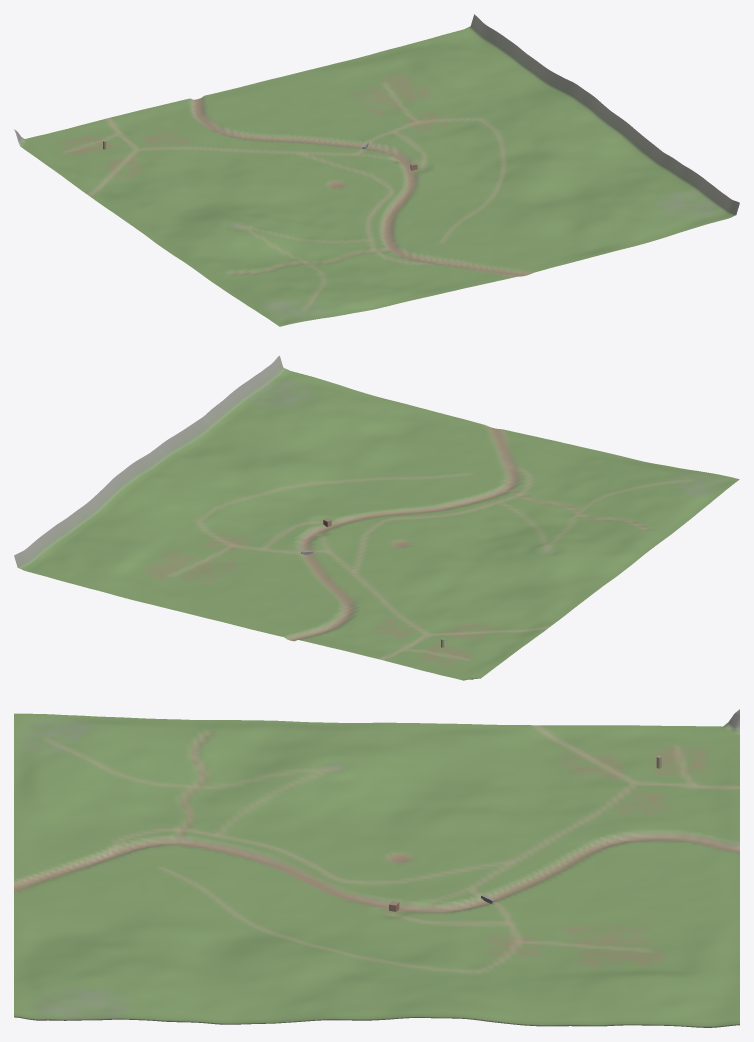
File: horizon.glb
3 renders of one model, top to bottom at view 1: azimuth 30°, elevation 25°; view 2: azimuth 150°, elevation 25°; view 3: azimuth 270°, elevation 25°, orthographic. The views are drawn at different scales.
Visible parts, largest first — view 1: horizon_terrain; view 2: horizon_terrain; view 3: horizon_terrain.
Boxes of the visible parts, box(x1,y1,x2,y2) form: horizon_terrain: box(14, 14, 739, 326); horizon_terrain: box(14, 355, 739, 680); horizon_terrain: box(14, 709, 739, 1027).
Bounding box in the file's own units: 1024 × 49.63 × 1024.
